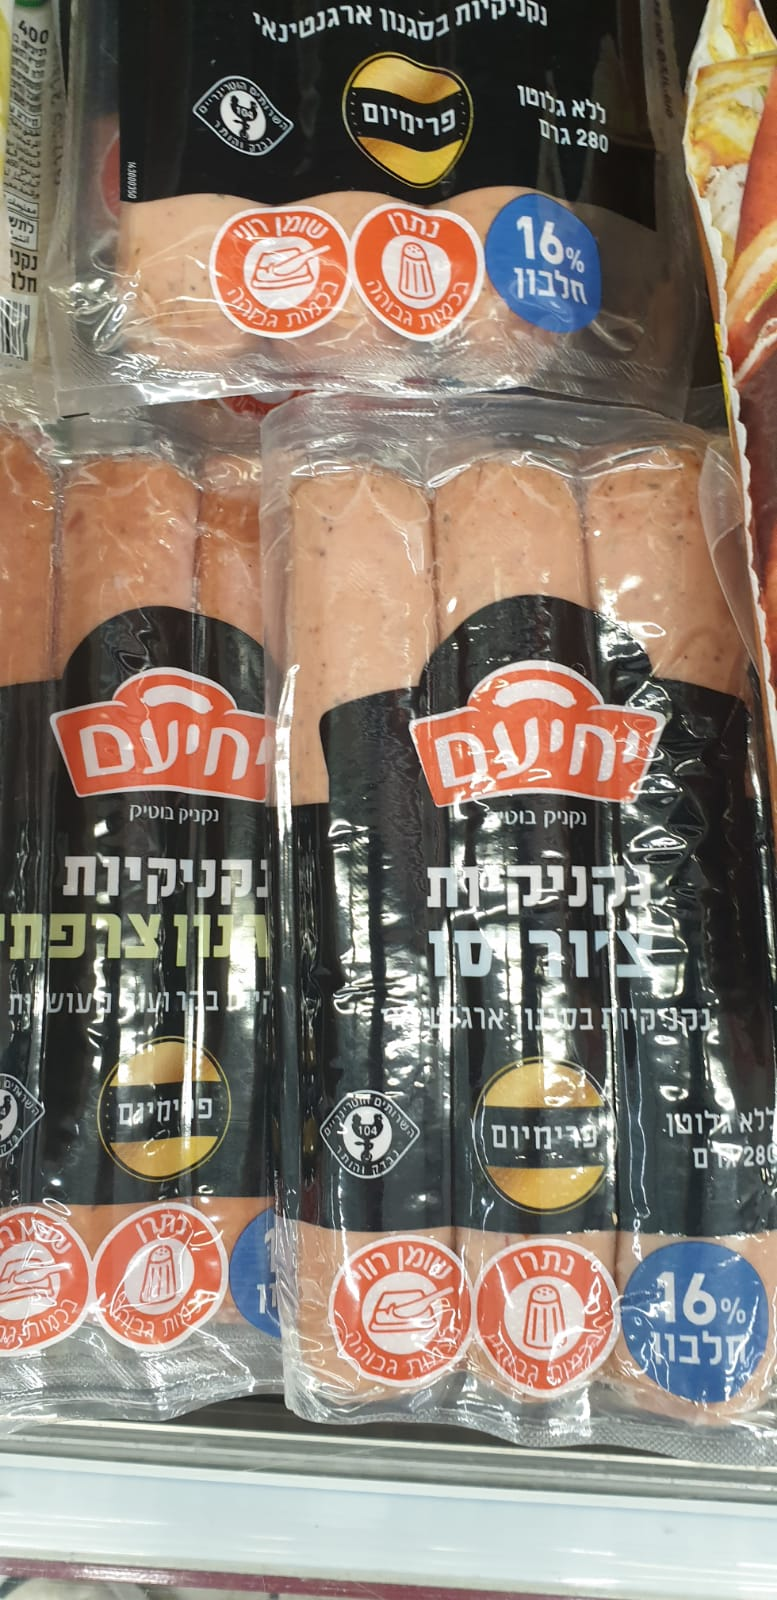fat: (330, 1236, 475, 1395), (209, 203, 350, 348), (1, 1208, 92, 1351)
salt: (474, 1236, 620, 1400), (90, 1205, 230, 1346), (352, 201, 485, 343)
